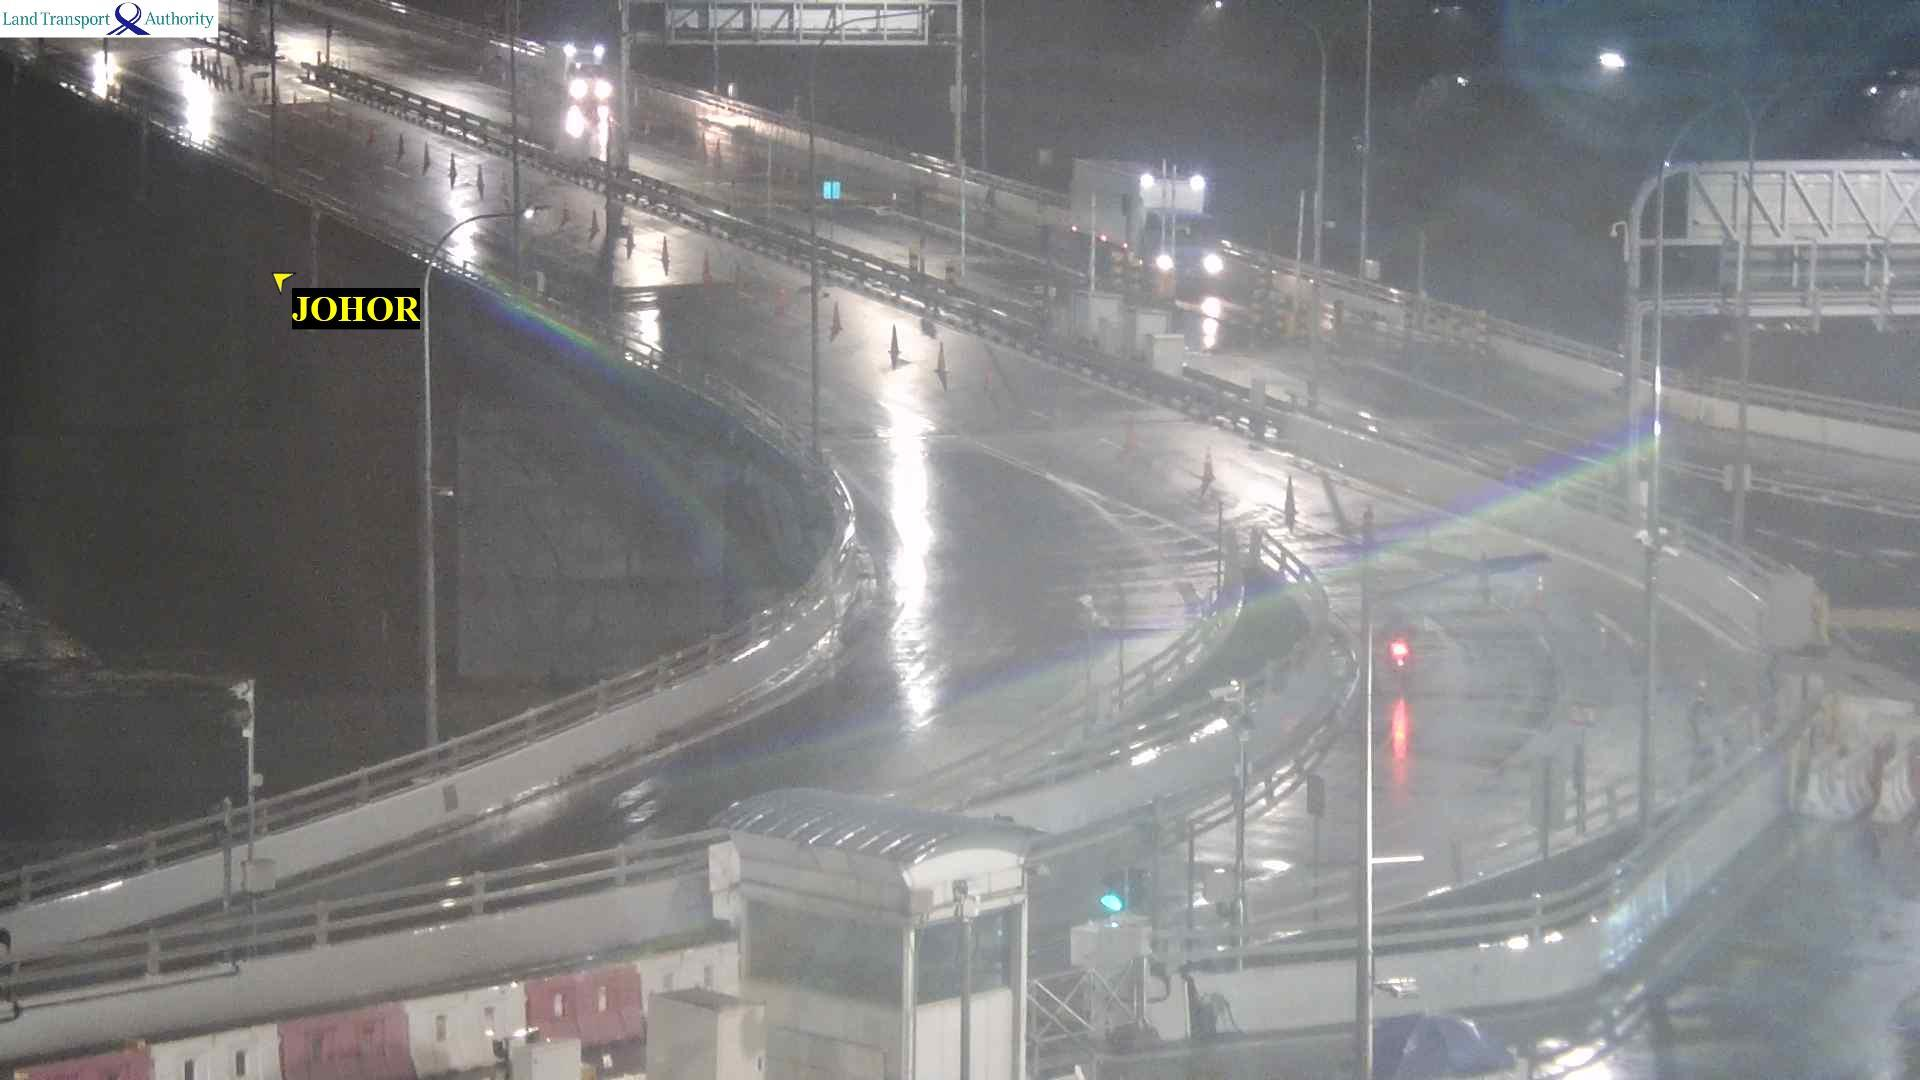vehicle-secondlink-singapore: (1068, 162, 1228, 291), (537, 42, 611, 113)
